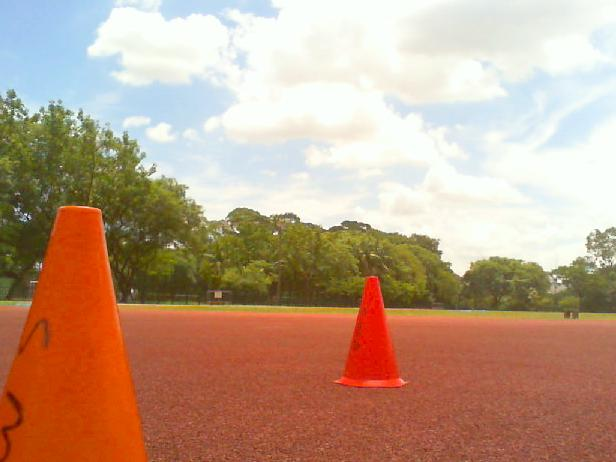0 cone: (0, 206, 153, 462), (333, 276, 409, 387)
